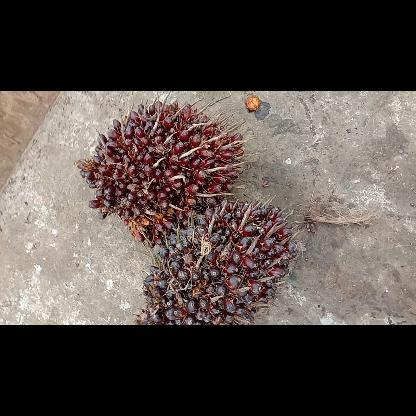Kurang masak: (138, 202, 296, 324)
TBS masak: (79, 98, 244, 242)
